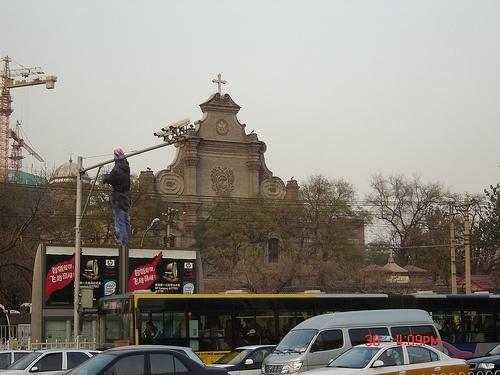tampered: (102, 149, 131, 244)
